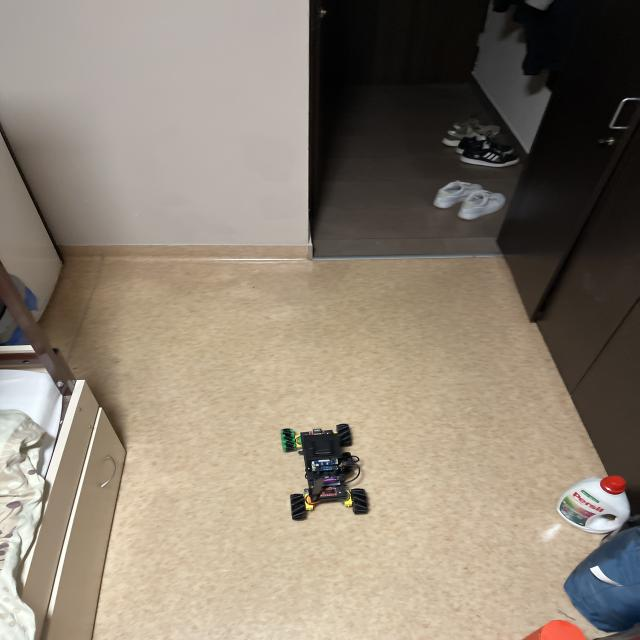robot: (281, 424, 368, 520)
